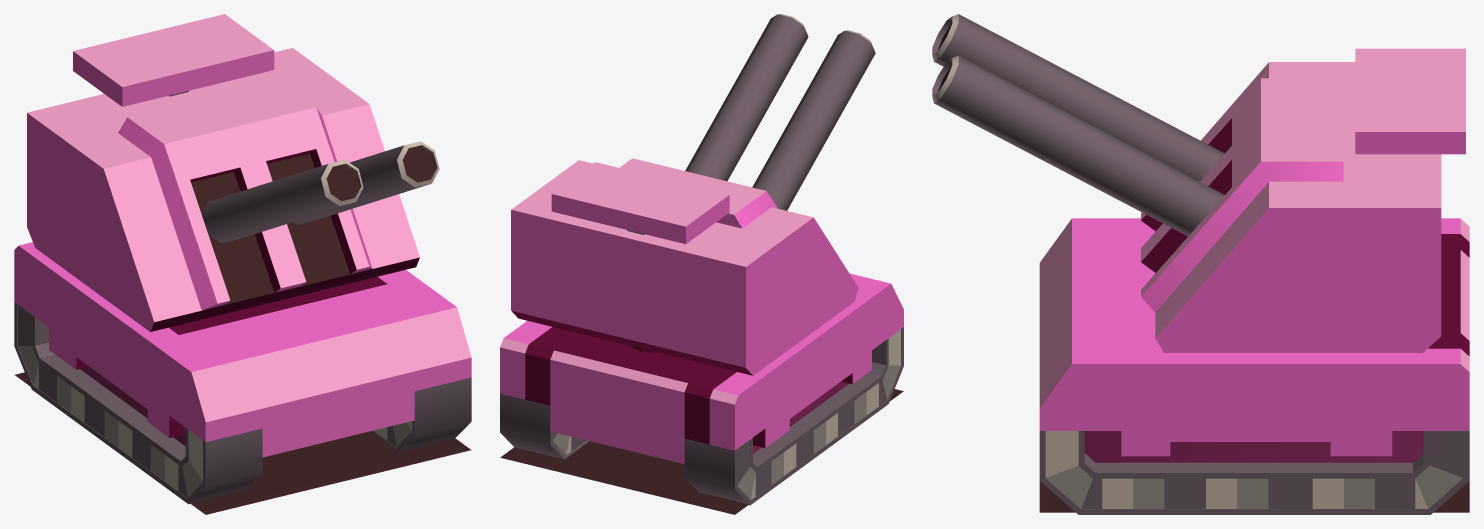
The model's file is AntiAirMesh.PinkCosmos.glb.
The picture shows the model from 3 angles, left to right: view 1: azimuth 30°, elevation 25°; view 2: azimuth 150°, elevation 25°; view 3: azimuth 270°, elevation 25°; orthographic projection. The views are drawn at different scales.
Visible parts, largest first — view 1: AntiAirMesh.PinkCosmos; view 2: AntiAirMesh.PinkCosmos; view 3: AntiAirMesh.PinkCosmos.
Part boxes in pixels (x1,y1,x2,y2): AntiAirMesh.PinkCosmos: (14,14,471,514); AntiAirMesh.PinkCosmos: (500,14,903,514); AntiAirMesh.PinkCosmos: (932,14,1469,514).
Size of the model in its own units: 1.4 by 1.8 by 2.18.
1 material, 1 textured.
